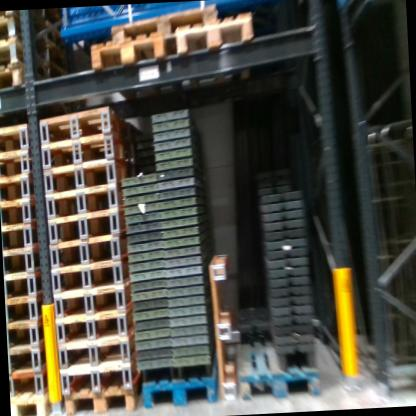pallet: (199, 239, 247, 404), (231, 328, 333, 402), (105, 0, 230, 49), (0, 12, 84, 80), (137, 341, 214, 407), (175, 12, 256, 69), (31, 101, 133, 145), (0, 35, 80, 88), (55, 331, 141, 377), (88, 35, 174, 79), (61, 353, 146, 396), (49, 255, 130, 298), (42, 178, 124, 219), (43, 154, 122, 196), (52, 278, 133, 318), (40, 131, 134, 165), (58, 305, 136, 345), (44, 210, 126, 245), (46, 235, 128, 268), (60, 386, 142, 412), (3, 244, 41, 286), (12, 387, 60, 416), (7, 346, 46, 380), (12, 365, 48, 399), (0, 69, 34, 104), (7, 321, 42, 354), (7, 297, 41, 330), (2, 223, 39, 253), (0, 116, 31, 149), (0, 151, 36, 179), (0, 173, 34, 202), (5, 274, 42, 300), (3, 201, 41, 225)
